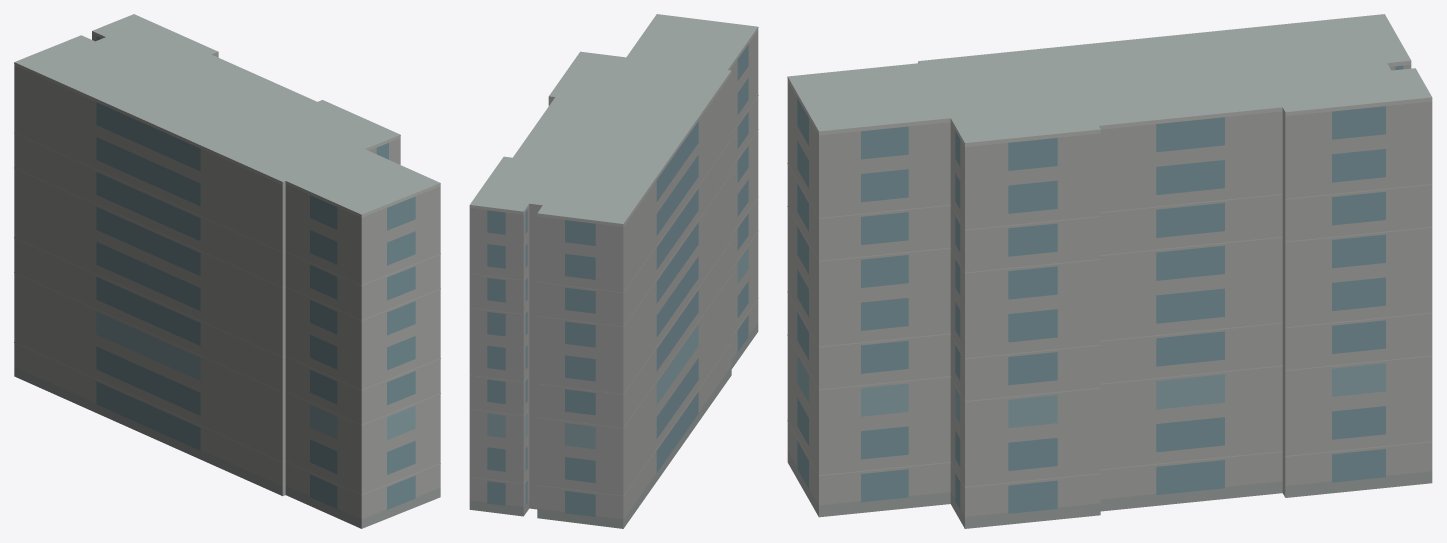
File: survey-upis-32598489.glb
3 views of the same model, side by side, from view 1: azimuth 30°, elevation 25°; view 2: azimuth 150°, elevation 25°; view 3: azimuth 270°, elevation 25° (orthographic). The views are drawn at different scales.
Visible parts, largest first — view 1: survey-upis-32598489.tmp; view 2: survey-upis-32598489.tmp; view 3: survey-upis-32598489.tmp.
Boxes of the visible parts, x1,y1,x2,y2 form: survey-upis-32598489.tmp: (14, 14, 440, 528); survey-upis-32598489.tmp: (469, 14, 758, 528); survey-upis-32598489.tmp: (787, 14, 1432, 528).
Size of the model in its own units: 16.78 by 23.34 by 35.38.
